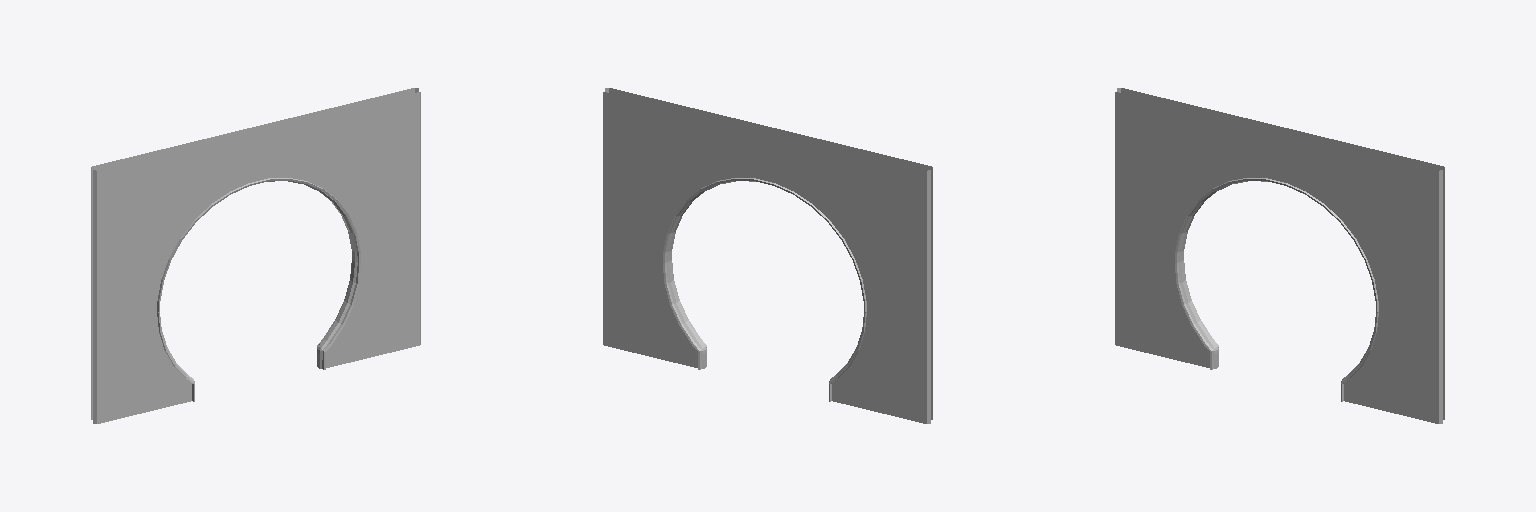
The model's file is wall_1_tunnel_hole.obj.
3 views of the same model, side by side, from view 1: azimuth 30°, elevation 25°; view 2: azimuth 150°, elevation 25°; view 3: azimuth 330°, elevation 25° (orthographic).
Parts seen in each view (by area): view 1: wall_1_tunnel_hole; view 2: wall_1_tunnel_hole; view 3: wall_1_tunnel_hole.
Boxes of the visible parts, <box> form: wall_1_tunnel_hole: <box>91,88,420,423</box>; wall_1_tunnel_hole: <box>603,88,932,423</box>; wall_1_tunnel_hole: <box>1115,88,1444,423</box>.
Bounding box in the file's own units: 4.06 × 3 × 0.1697.